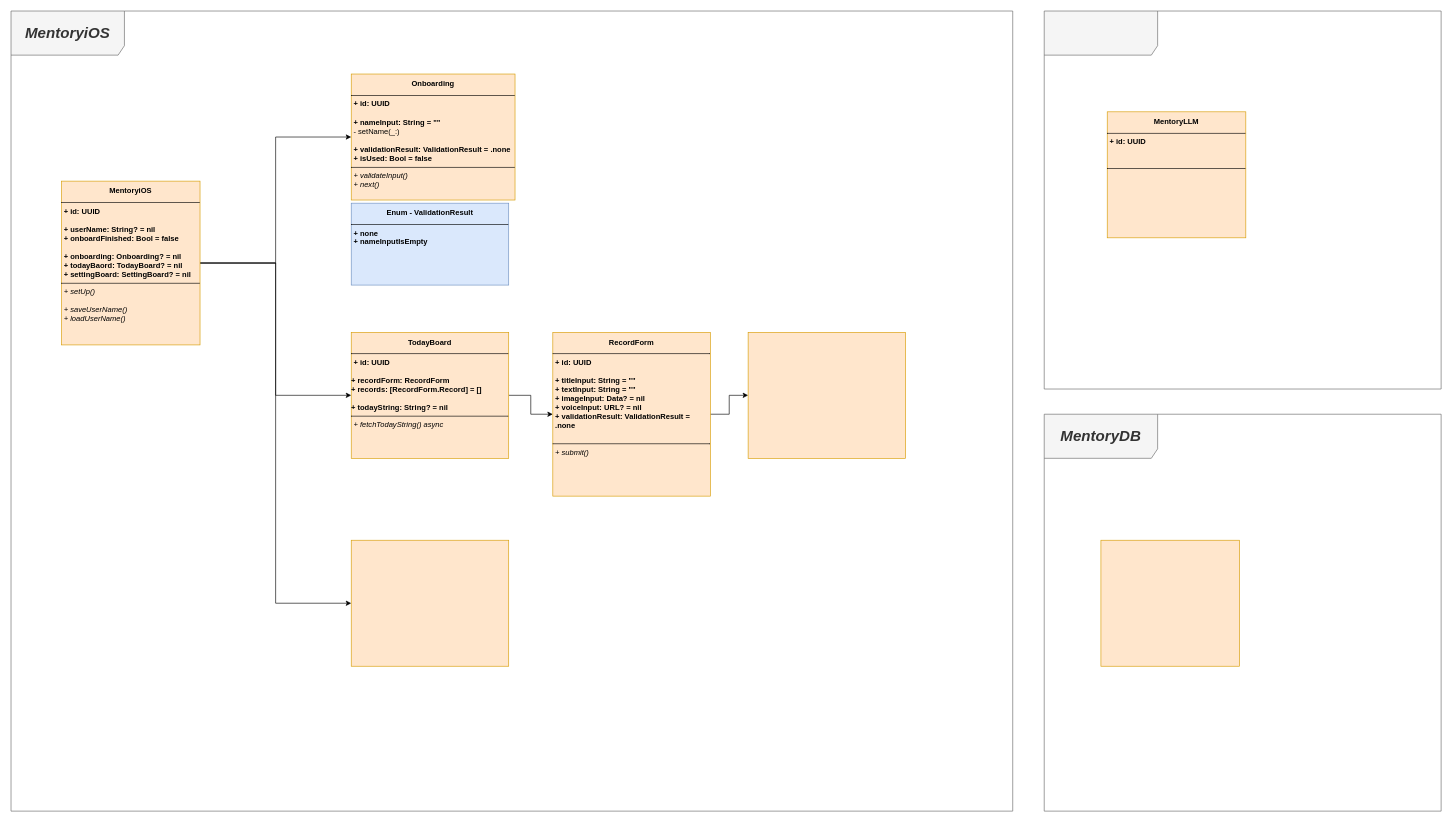
Some shapes in this 1452 by 822 pixel diagram are drawn without their labels. The centre of each missing label's shape, as x and y in pixels:
"MentoryDB + id: UUID" goes at point (1170, 603).
"MentoryLLM" goes at point (1242, 199).
"RecordForm + id: UUID +" goes at point (826, 395).
"SettingBoard + id: UUID +" goes at point (430, 603).
